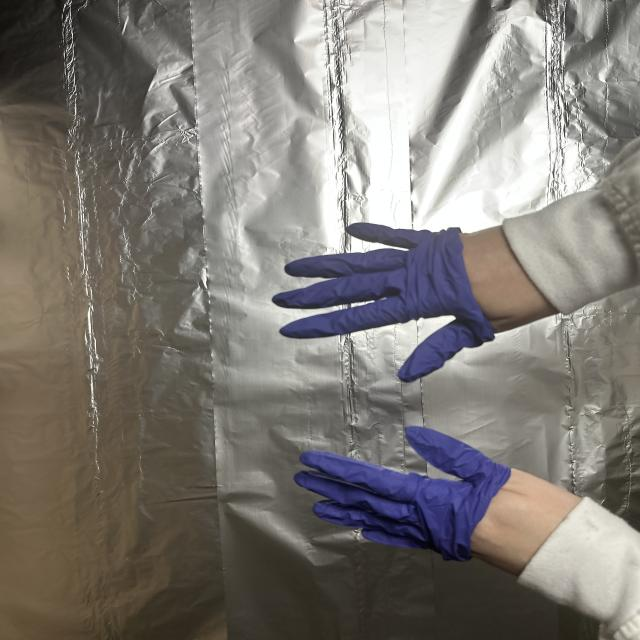glove_partial: (266, 216, 572, 386), (291, 422, 590, 579)
